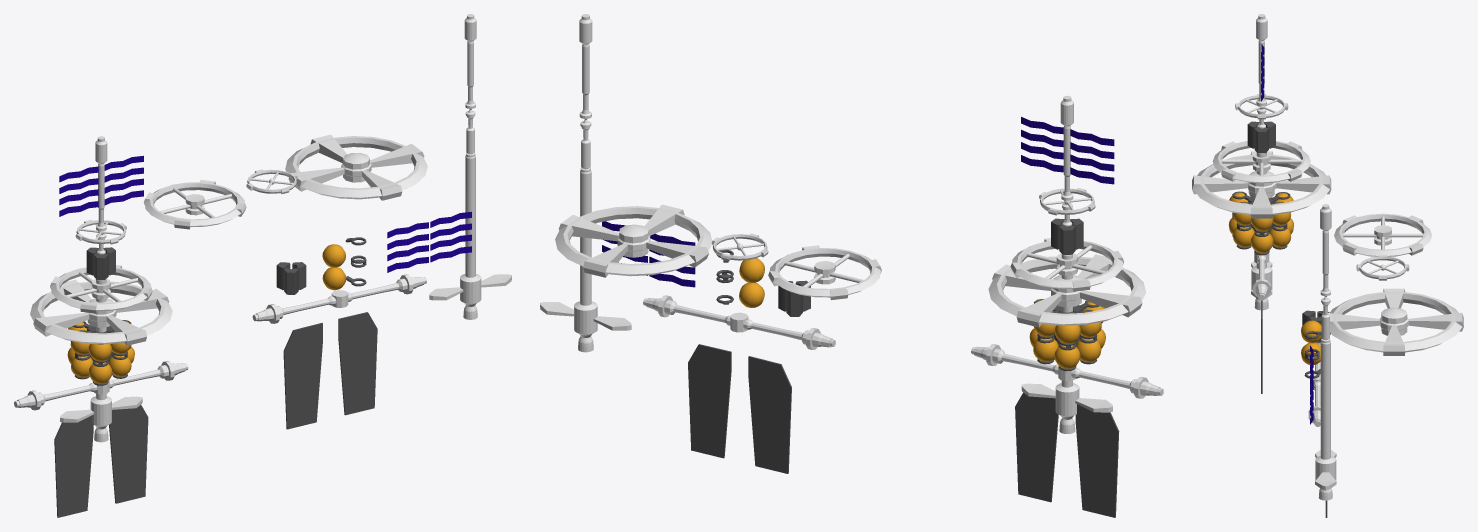
Rendered from SpaceStationV01.fbx.
3 views of the same model, side by side, from view 1: azimuth 30°, elevation 25°; view 2: azimuth 150°, elevation 25°; view 3: azimuth 270°, elevation 25° (orthographic). The views are drawn at different scales.
Parts seen in each view (by area): view 1: HeatFins1, HeatFins, Ring4, Ring3, Body1, Ring5, Body, SolorPanals1, Ring1, SolorPanals, FuelTanks, DockingArms1 (+6 smaller); view 2: HeatFins1, HeatFins, Ring4, Ring3, Body1, Ring5, Body, Ring1, SolorPanals, FuelTanks, DockingArms1, DockingArms (+6 smaller); view 3: Ring4, Ring3, Body1, Ring5, Ring1, FuelTanks, Body, Cargostorge, Ring6, Ring2, polySurface4, DockingArms (+1 smaller).
Part boxes in pixels (x1,y1,x2,y2): HeatFins1: [283, 312, 377, 429]; HeatFins: [54, 405, 148, 517]; Ring4: [285, 134, 427, 200]; Ring3: [30, 279, 172, 345]; Body1: [429, 14, 511, 319]; Ring5: [143, 180, 246, 229]; Body: [60, 136, 142, 442]; SolorPanals1: [387, 211, 471, 272]; Ring1: [50, 265, 152, 313]; SolorPanals: [59, 155, 143, 216]; FuelTanks: [67, 320, 134, 383]; DockingArms1: [252, 274, 426, 323]; HeatFins1: [688, 344, 791, 473]; HeatFins: [1015, 392, 1119, 517]; Ring4: [555, 204, 712, 277]; Ring3: [988, 254, 1146, 327]; Body1: [540, 14, 631, 352]; Ring5: [768, 245, 881, 300]; Body: [1021, 95, 1112, 433]; Ring1: [1010, 238, 1123, 291]; SolorPanals: [1021, 116, 1114, 184]; FuelTanks: [1029, 300, 1105, 368]; DockingArms1: [643, 295, 835, 349]; DockingArms: [971, 344, 1163, 398]; Ring4: [1328, 288, 1463, 355]; Ring3: [1192, 151, 1331, 218]; Body1: [1315, 204, 1336, 500]; Ring5: [1334, 213, 1431, 256]; Ring1: [1212, 141, 1310, 183]; FuelTanks: [1228, 192, 1293, 252]; Body: [1251, 14, 1272, 310]; Cargostorge: [1247, 121, 1275, 153]; Ring6: [1356, 255, 1409, 280]; Ring2: [1235, 94, 1288, 119]; polySurface4: [1301, 320, 1321, 364]; DockingArms: [1252, 250, 1270, 300].
Size of the model in its own units: 5708 by 3805 by 2621.
